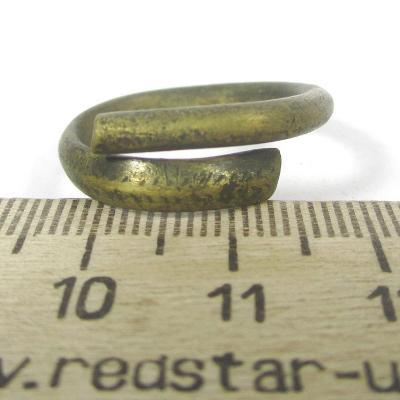archeology: (60, 81, 334, 212)
